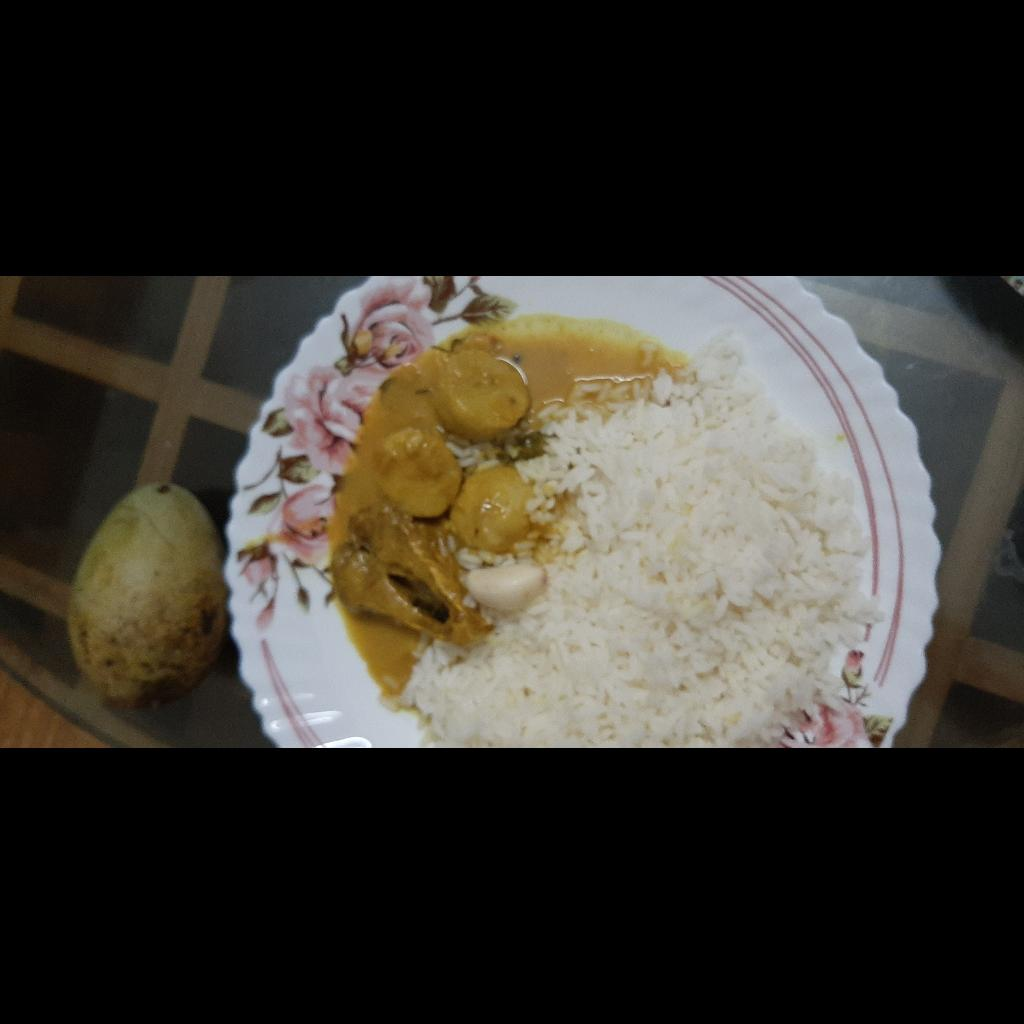fish: (101, 602, 250, 762)
kochu: (194, 600, 426, 962), (45, 603, 140, 705)
mango: (40, 343, 264, 504)
rice: (0, 660, 429, 1024)
